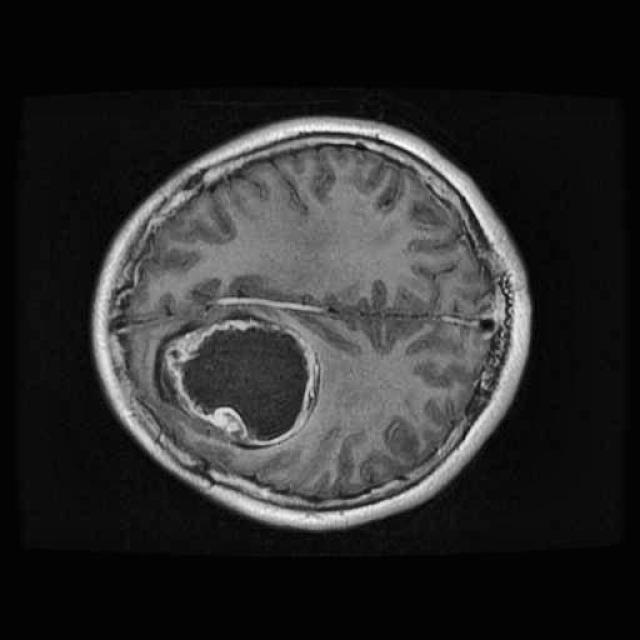Non-Tumor: (153, 312, 330, 456)
